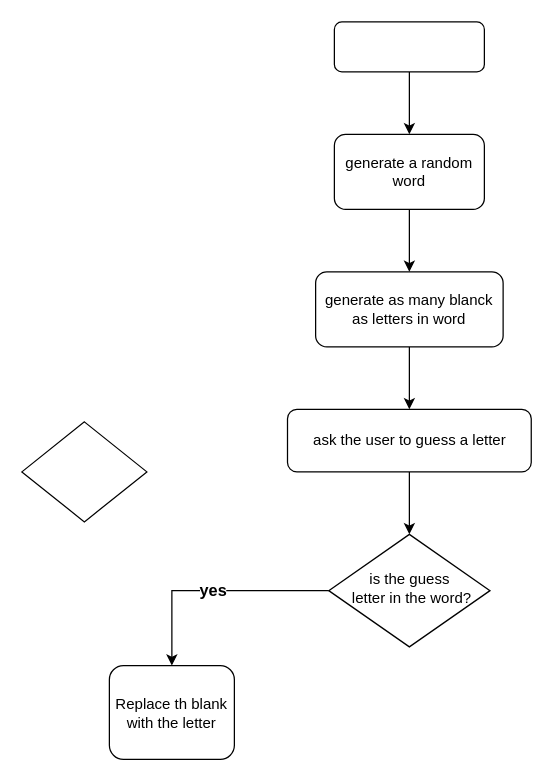
Some shapes in this 554 by 781 pixel diagram are drawn without their labels. Each missing label, with the centre of its shape:
Bulb burned out?: the point at 84,471
start: the point at 408,46
